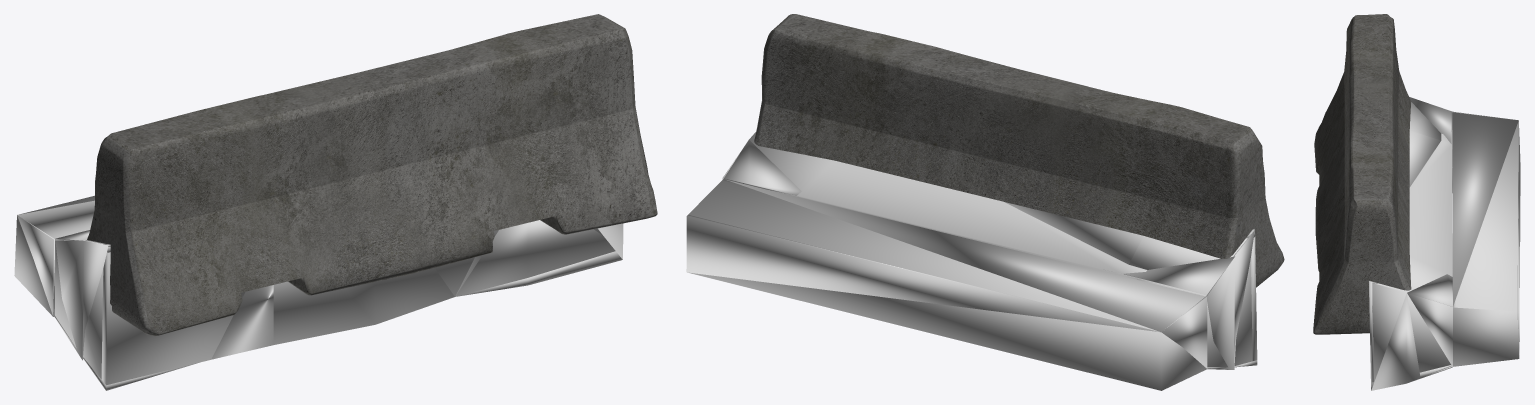
The model's file is SM_Concrete_Barrier.fbx.
The picture shows the model from 3 angles, left to right: view 1: azimuth 30°, elevation 25°; view 2: azimuth 150°, elevation 25°; view 3: azimuth 270°, elevation 25°; orthographic projection. The views are drawn at different scales.
Parts seen in each view (by area): view 1: SM_Concrete_Barrier, SM_Concrete_Barrier_ConvexHulls; view 2: SM_Concrete_Barrier_ConvexHulls, SM_Concrete_Barrier; view 3: SM_Concrete_Barrier_ConvexHulls, SM_Concrete_Barrier.
Boxes of the visible parts, x1,y1,x2,y2 form: SM_Concrete_Barrier: (87, 14, 657, 336); SM_Concrete_Barrier_ConvexHulls: (14, 195, 623, 390); SM_Concrete_Barrier_ConvexHulls: (686, 132, 1257, 390); SM_Concrete_Barrier: (754, 14, 1284, 287); SM_Concrete_Barrier_ConvexHulls: (1369, 97, 1520, 390); SM_Concrete_Barrier: (1313, 14, 1411, 334).
Size of the model in its own units: 2.93 by 1.32 by 1.3.
